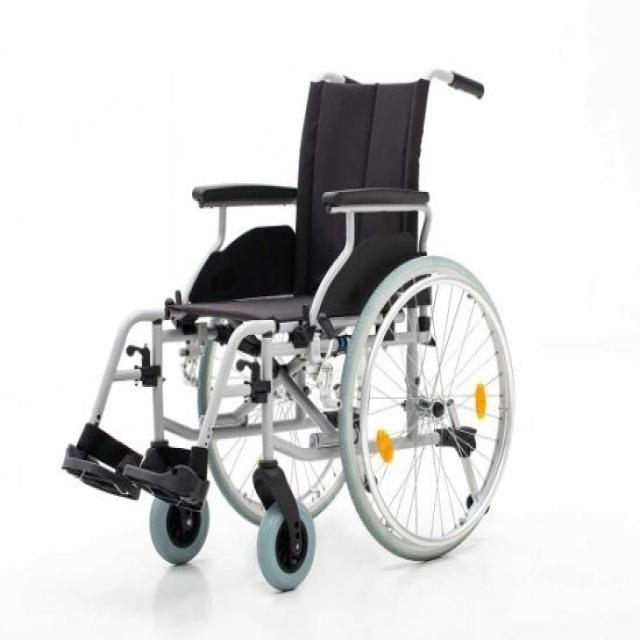wheelchair: (51, 52, 558, 595)
